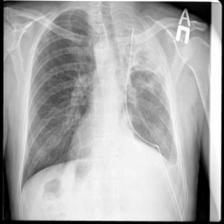tuberculosis: (15, 8, 183, 191)
